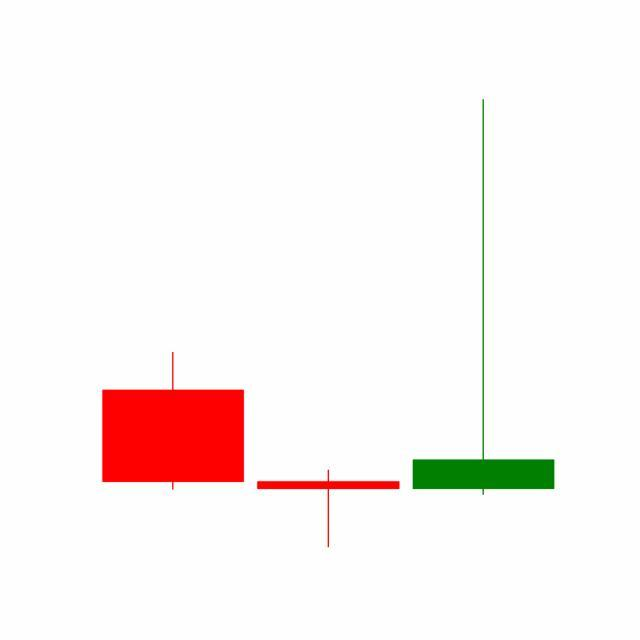Spinning Top: (250, 469, 407, 549)
